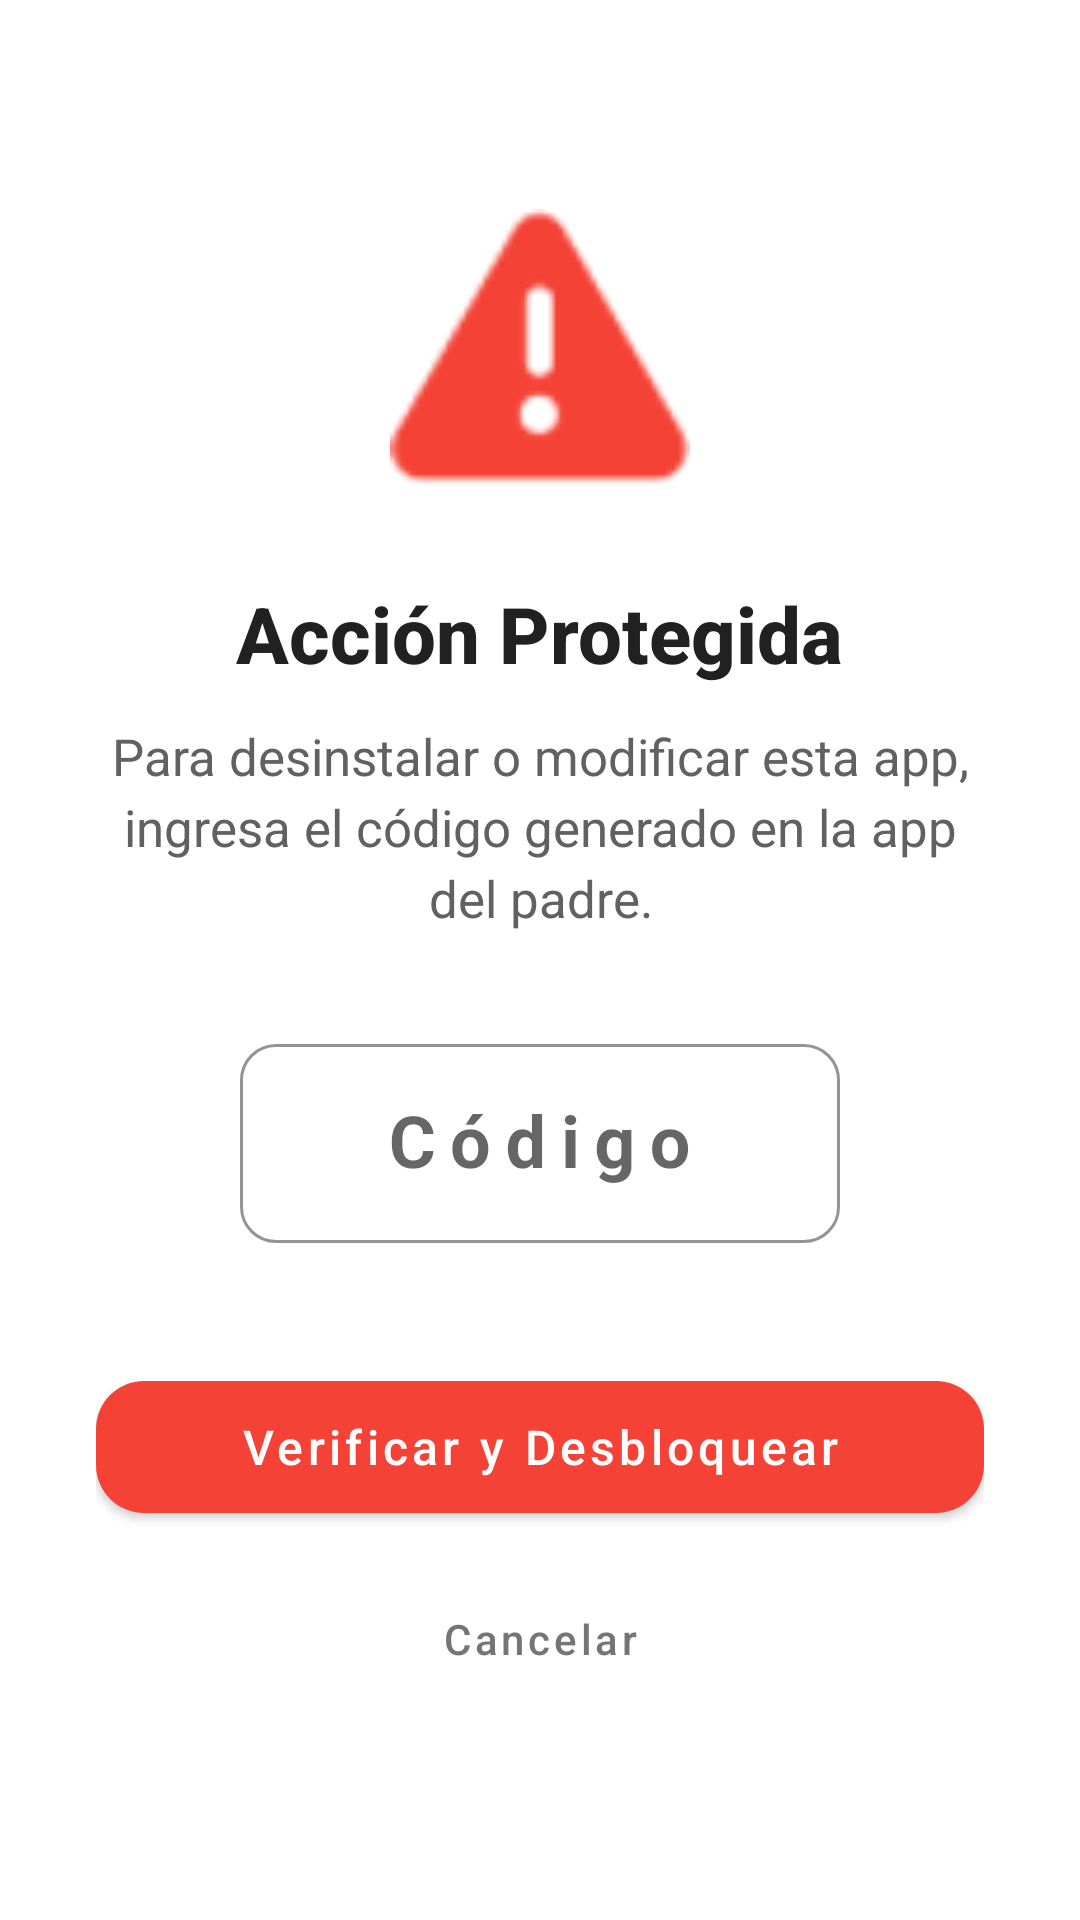

Icons on this 1080*1920 Android screen, each with its box as (x1, y1, x2, y2):
Alerta: (390, 209, 690, 483)
